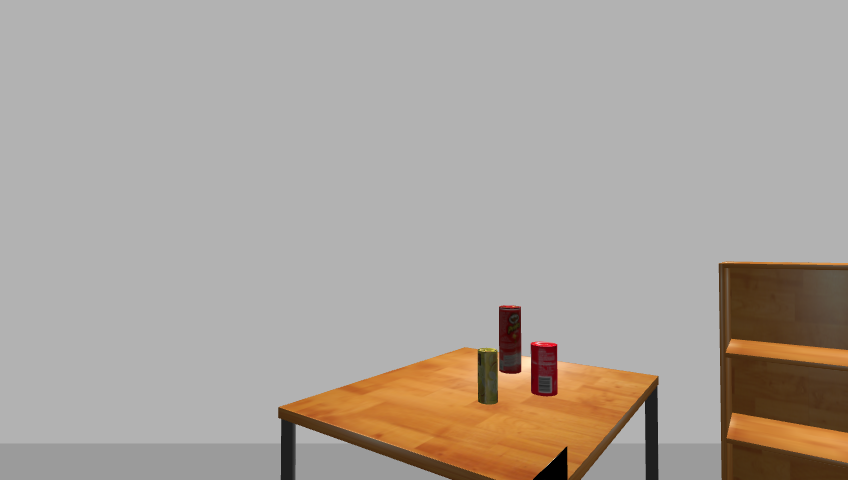aruco marker: (527, 447, 571, 480)
biscuits pack: (477, 348, 499, 405)
bookshelf: (713, 260, 848, 479)
coke can: (530, 342, 560, 396)
dinner table: (272, 348, 670, 480)
pringles can: (495, 304, 524, 376)
